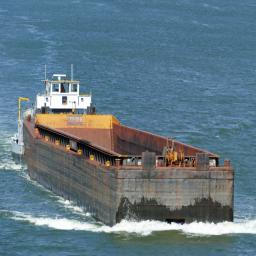tugboat: (10, 64, 102, 180)
